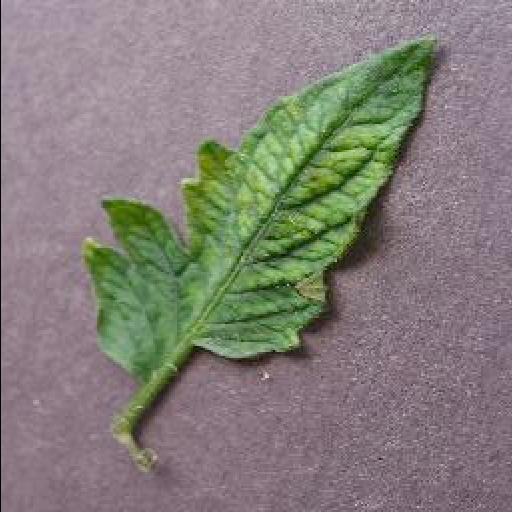Mosaic Virus: (81, 36, 451, 380)
